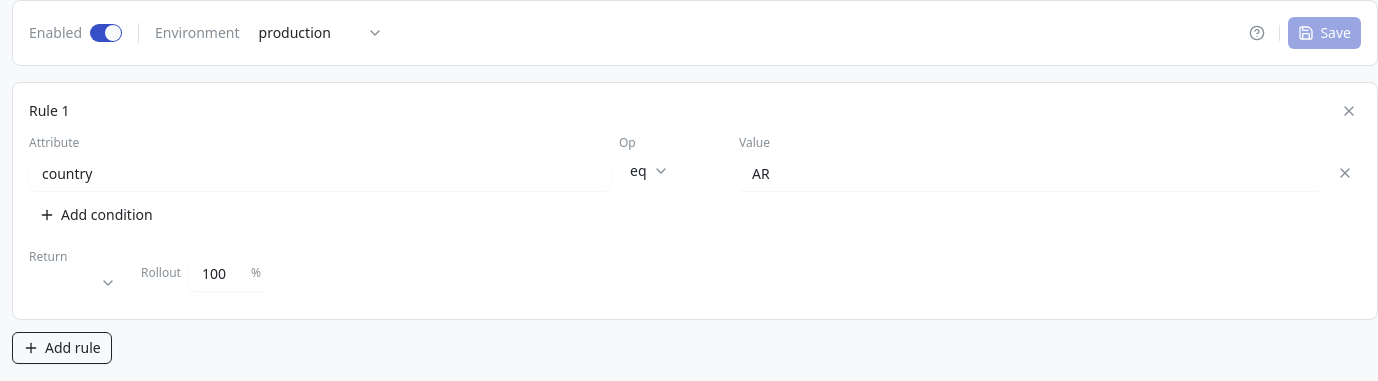
Test: RuleEditor › enables save after making a change
The image size is (1378, 381).
In the field named "Attribute": (320, 173) [29, 155, 611, 191], type "x"
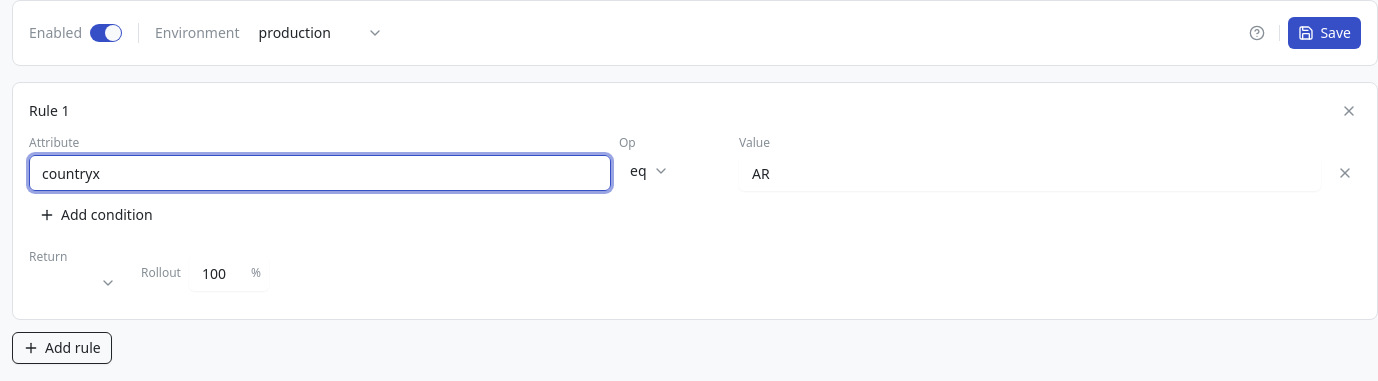
Result: the button "Save" is enabled at [1288, 17, 1361, 49]
